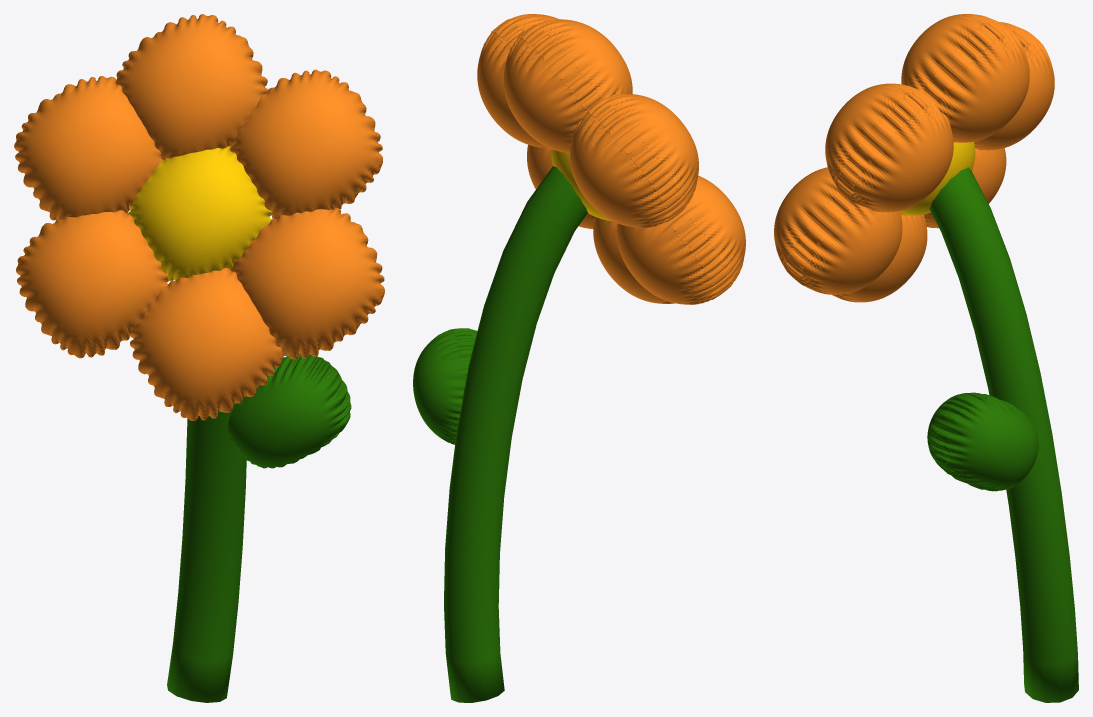
File: Flower.fbx
3 renders of one model, left to right at view 1: azimuth 30°, elevation 25°; view 2: azimuth 150°, elevation 25°; view 3: azimuth 270°, elevation 25°, orthographic. The views are drawn at different scales.
Visible parts, largest first — view 1: Flower; view 2: Flower; view 3: Flower.
Part boxes in pixels (x1=…): Flower: x1=14, y1=14, x2=384, y2=702; Flower: x1=413, y1=14, x2=745, y2=702; Flower: x1=774, y1=14, x2=1078, y2=702.
Bounding box in the file's own units: 161 × 334 × 142.
